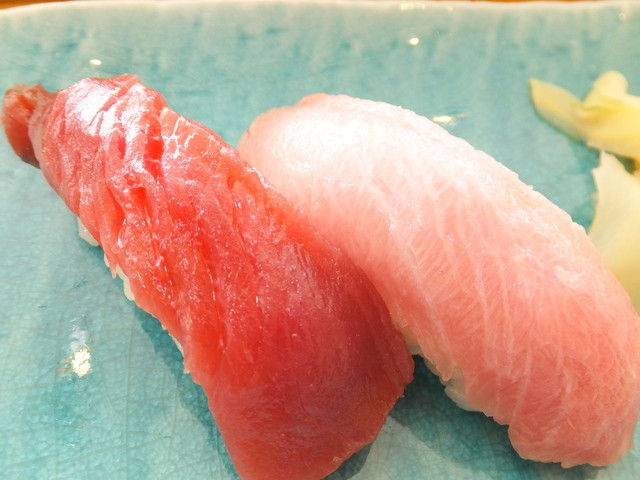medium_fatty_tuna: (4, 73, 414, 480)
